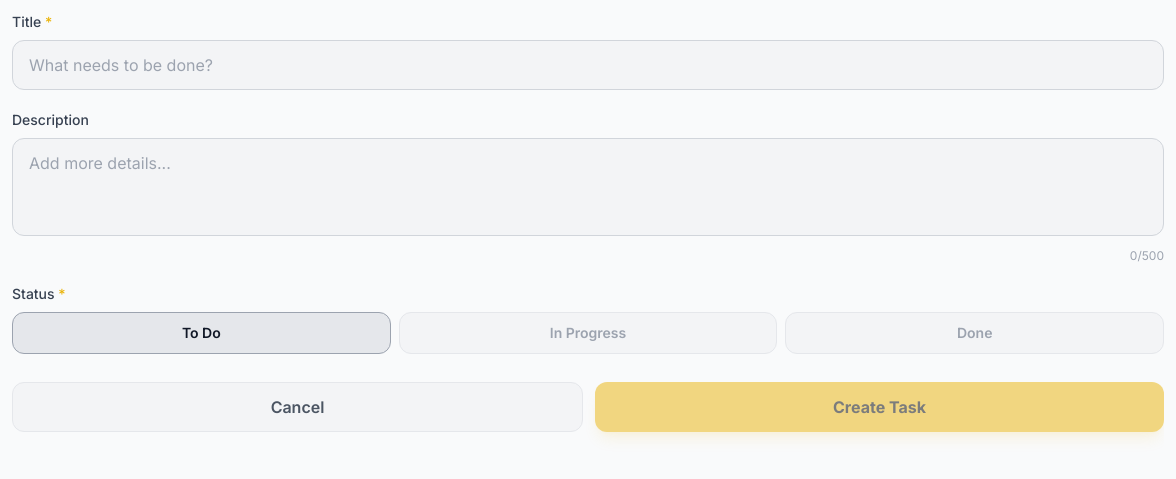
TaskForm › shows validation error for short title
Type "ab" into the field labelled "Title *" at (588, 65), box [12,40,1164,90]
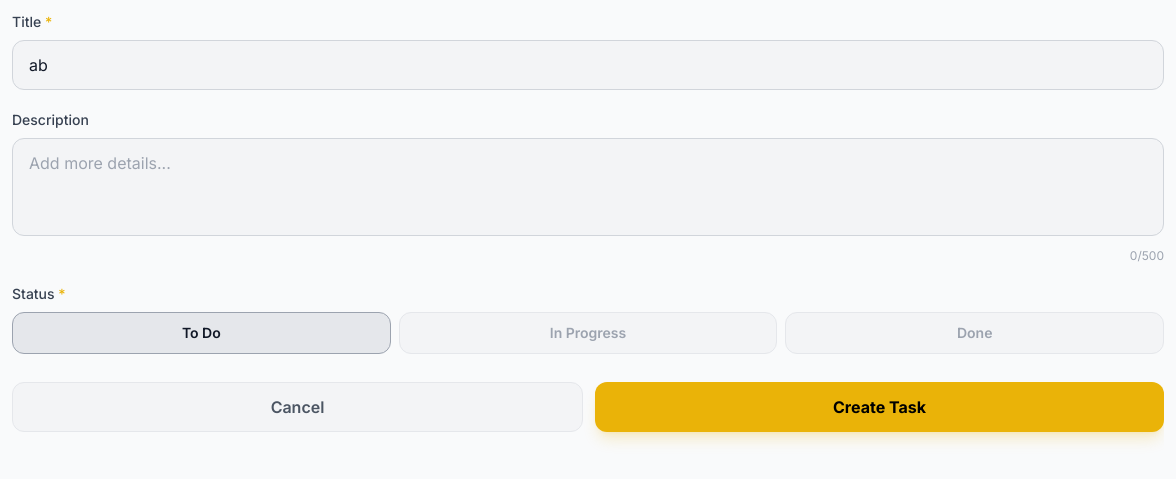
Leave the field labelled "Title *", box [12,40,1164,90]
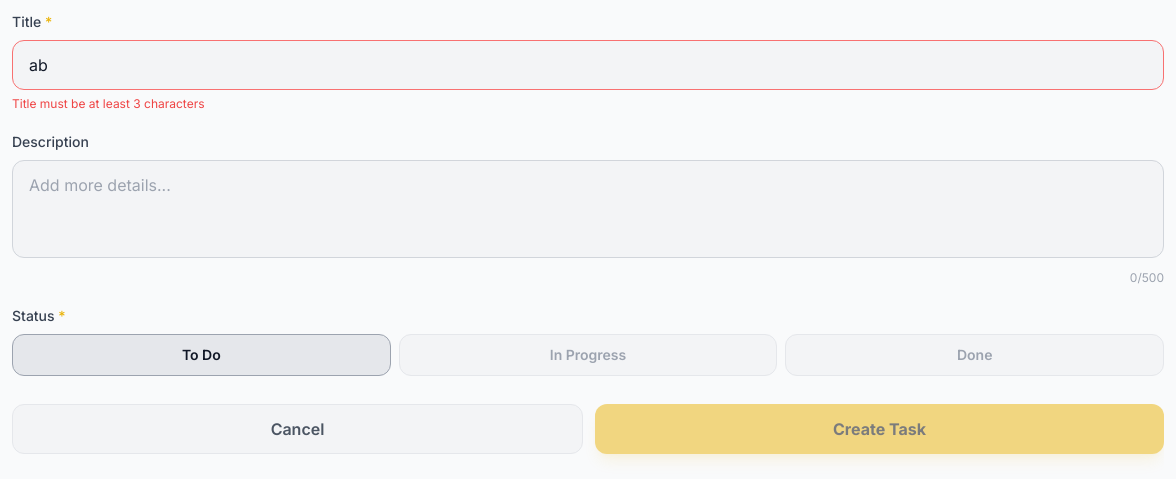
Now the text "Title must be at least 3 characters" is shown, box [12,96,204,111]
